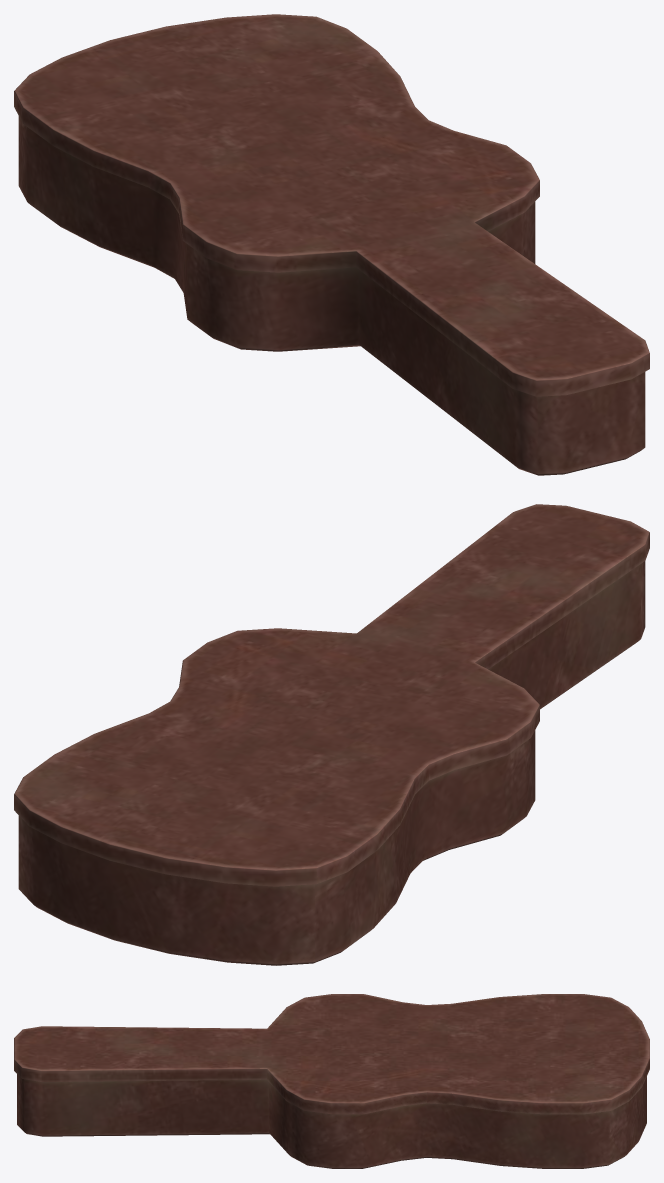
File: prop_guitar_case.glb
3 renders of one model, top to bottom at view 1: azimuth 30°, elevation 25°; view 2: azimuth 150°, elevation 25°; view 3: azimuth 270°, elevation 25°, orthographic. The views are drawn at different scales.
Visible parts, largest first — view 1: GuitarCaseAll_LeatherCase_0; view 2: GuitarCaseAll_LeatherCase_0; view 3: GuitarCaseAll_LeatherCase_0.
Part boxes in pixels (bbox=[...]): GuitarCaseAll_LeatherCase_0: bbox=[14, 14, 649, 475]; GuitarCaseAll_LeatherCase_0: bbox=[14, 504, 649, 965]; GuitarCaseAll_LeatherCase_0: bbox=[14, 994, 649, 1168].
Size of the model in its own units: 0.41 by 0.12 by 1.01.
Materials: 1 (1 with a texture image).
